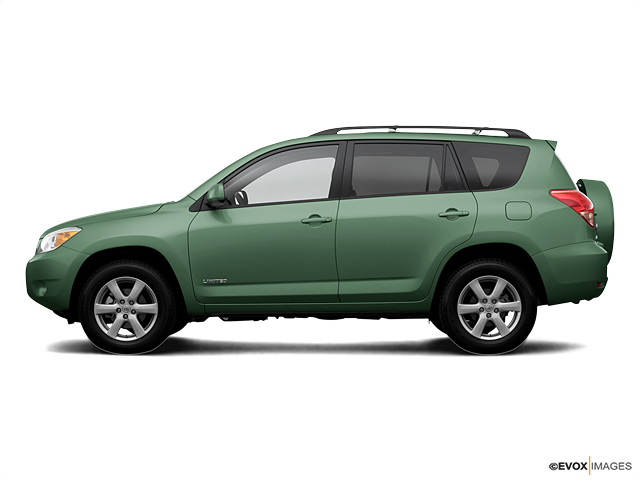Toyota RAV-4: (24, 130, 616, 358)
